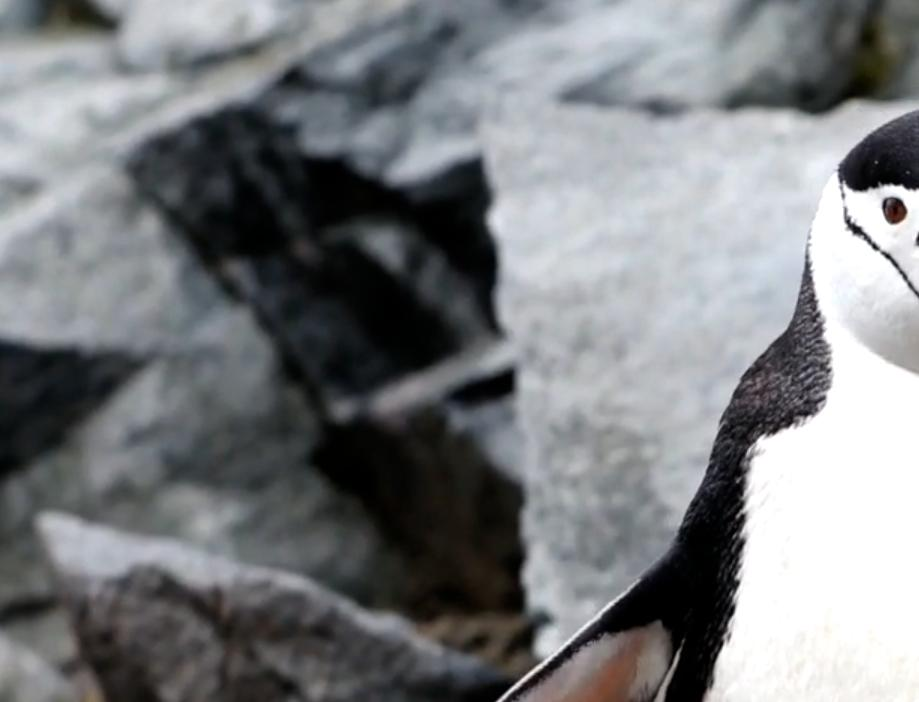Chinstrap Penguin: (261, 90, 919, 702)
